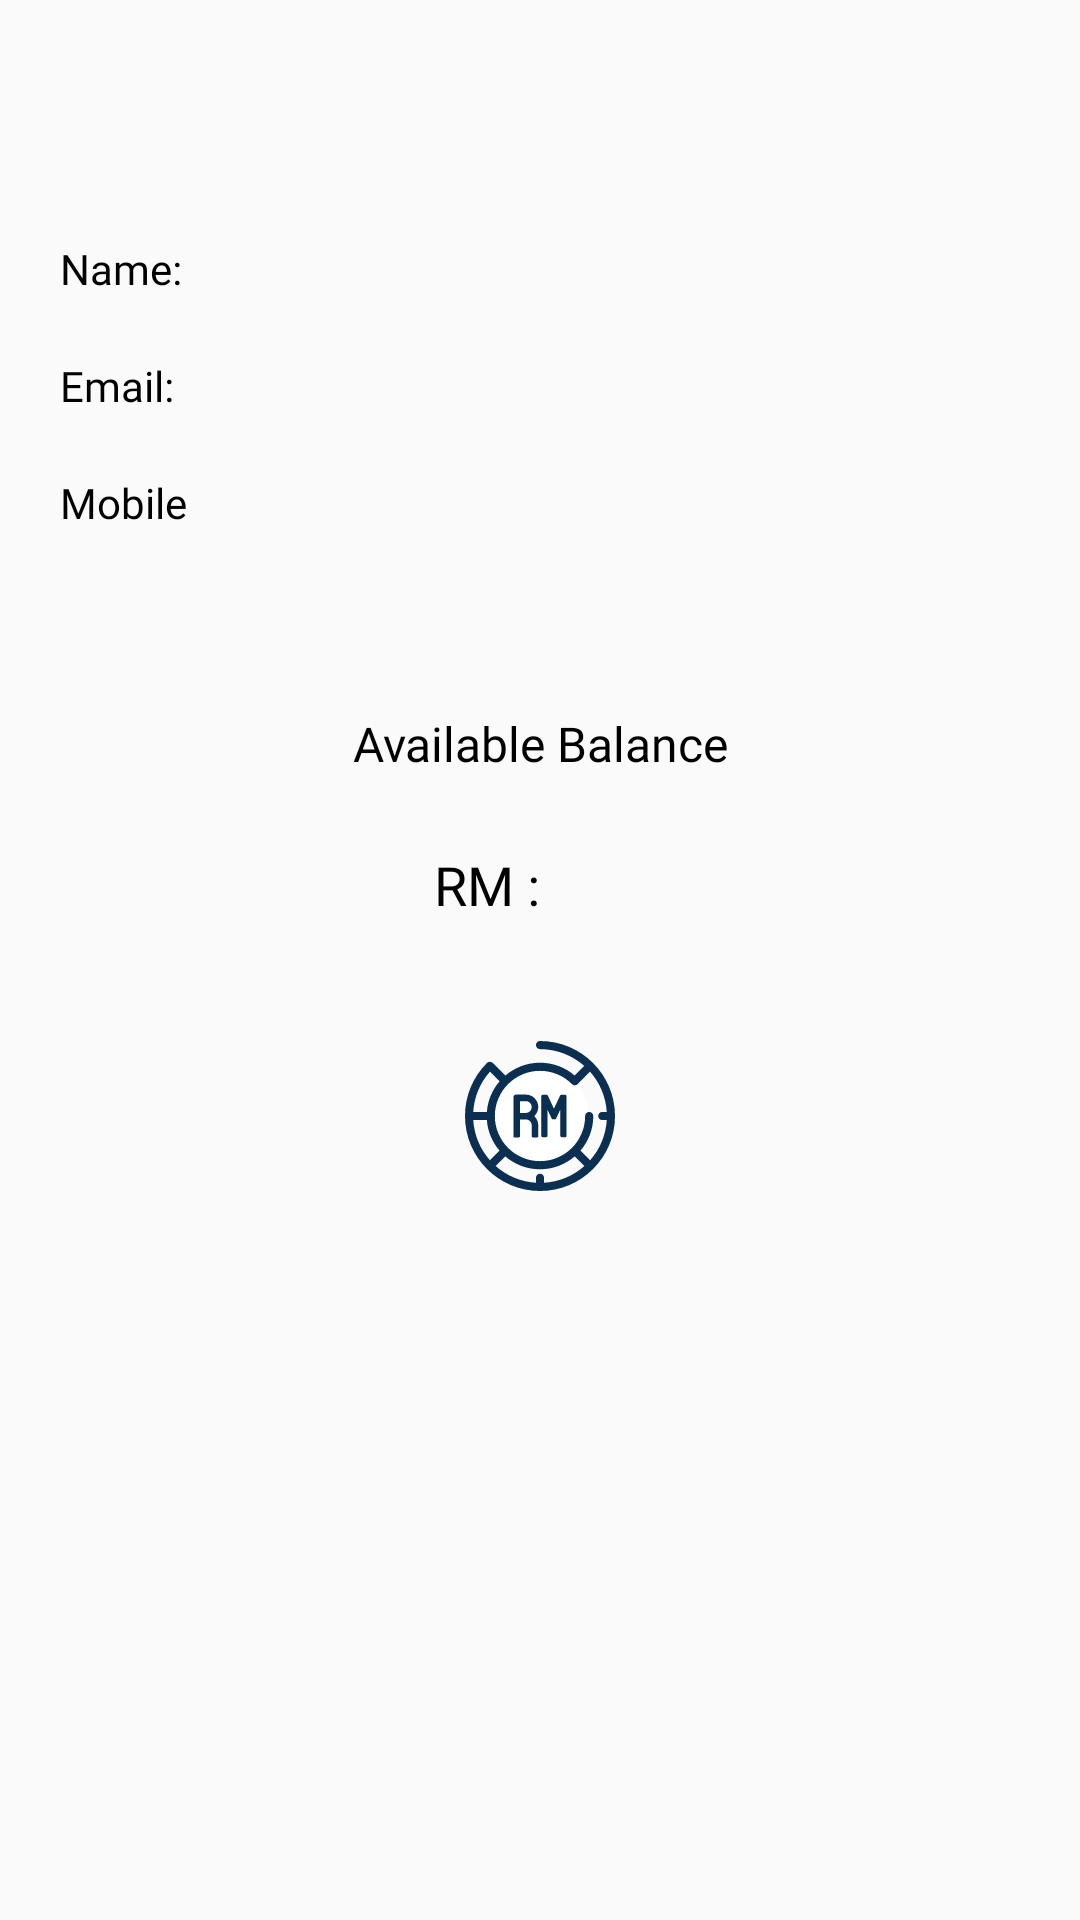

Icon click points for this 1080*1920 phone screenshot, format (x=x, y=y):
malaysian ringgit: (x=540, y=1116)
